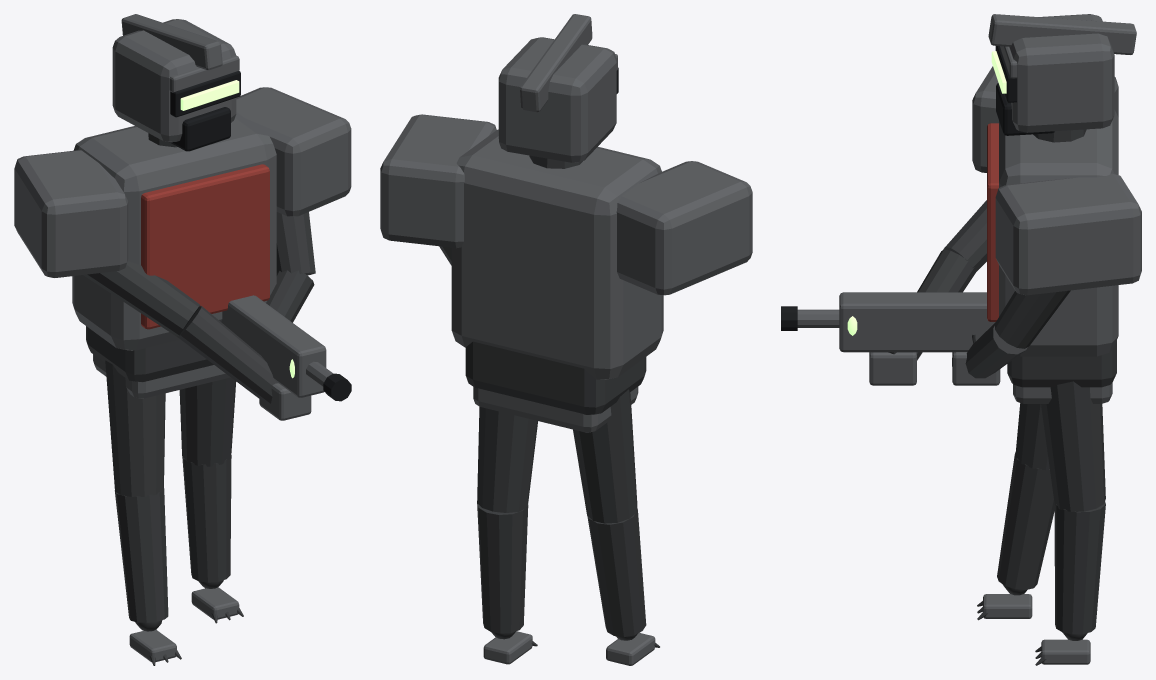
Rendered from XCOM_Muton.fbx.
3 renders of one model, left to right at view 1: azimuth 30°, elevation 25°; view 2: azimuth 150°, elevation 25°; view 3: azimuth 270°, elevation 25°, orthographic. The views are drawn at different scales.
Parts seen in each view (by area): view 1: XCOM_Muton; view 2: XCOM_Muton; view 3: XCOM_Muton.
Part boxes in pixels (<box>): XCOM_Muton: <box>14,14,351,665</box>; XCOM_Muton: <box>380,14,752,665</box>; XCOM_Muton: <box>781,14,1141,665</box>.
Size of the model in its own units: 1.15 by 2.07 by 1.09.
